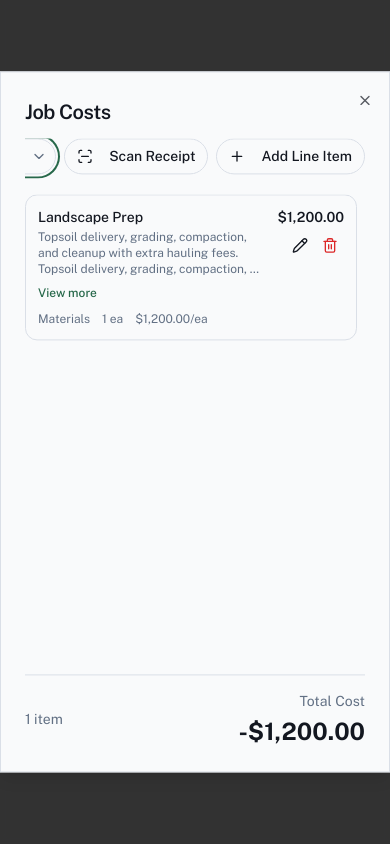
Test: JobCostsModal description truncation › clamps long descriptions to 3 lines and expands on View more
What coordinates should you click on to do the following:
click the button "View more"
I would click on:
 (67, 293)
Its box is [38,281,97,305].
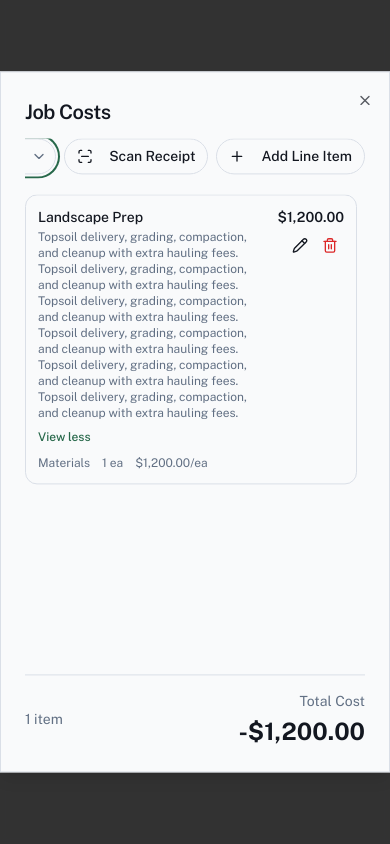
Expected: the button "View less" is shown, [38,425,91,449]
